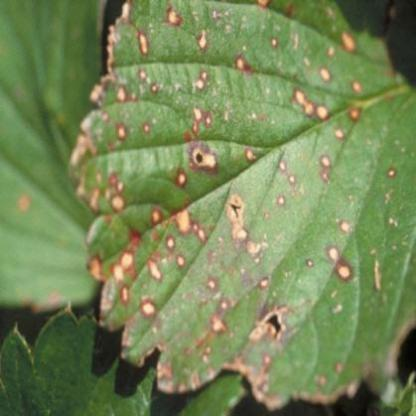Strawberry_Leaf_Spot: (66, 0, 415, 414), (0, 0, 109, 314)
